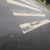zebra: (7, 1, 49, 34)
